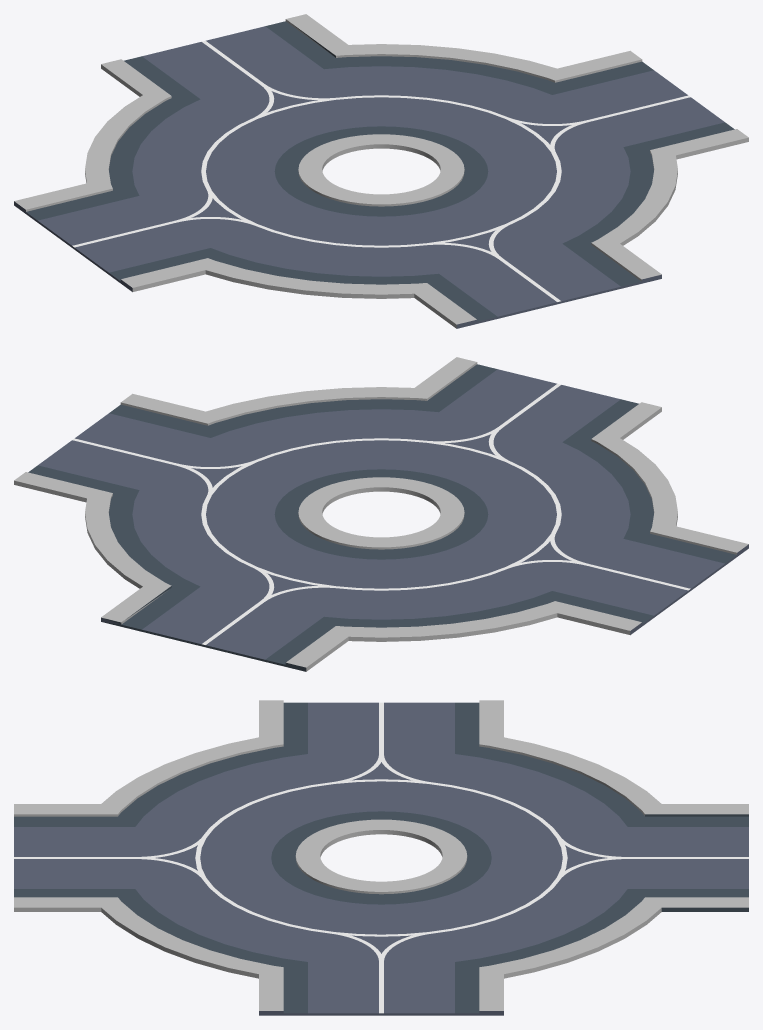
The model's file is SM_Road_Roundabout.fbx.
The picture shows the model from 3 angles, top to bottom: view 1: azimuth 30°, elevation 25°; view 2: azimuth 150°, elevation 25°; view 3: azimuth 270°, elevation 25°; orthographic projection. The views are drawn at different scales.
Parts seen in each view (by area): view 1: SM_Road_Roundabout; view 2: SM_Road_Roundabout; view 3: SM_Road_Roundabout.
Boxes of the visible parts, x1=… form: SM_Road_Roundabout: x1=14, y1=14, x2=748, y2=328; SM_Road_Roundabout: x1=14, y1=357, x2=748, y2=671; SM_Road_Roundabout: x1=14, y1=700, x2=748, y2=1015.
Size of the model in its own units: 3000 by 20 by 3000.
